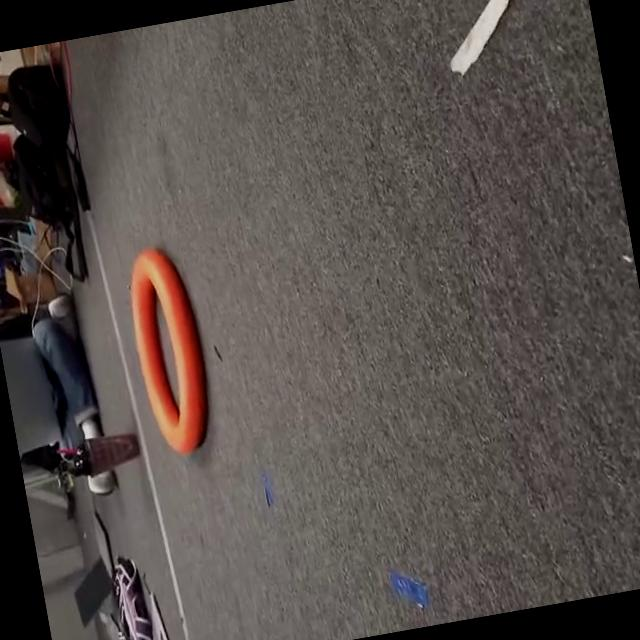note: (109, 231, 237, 474)
